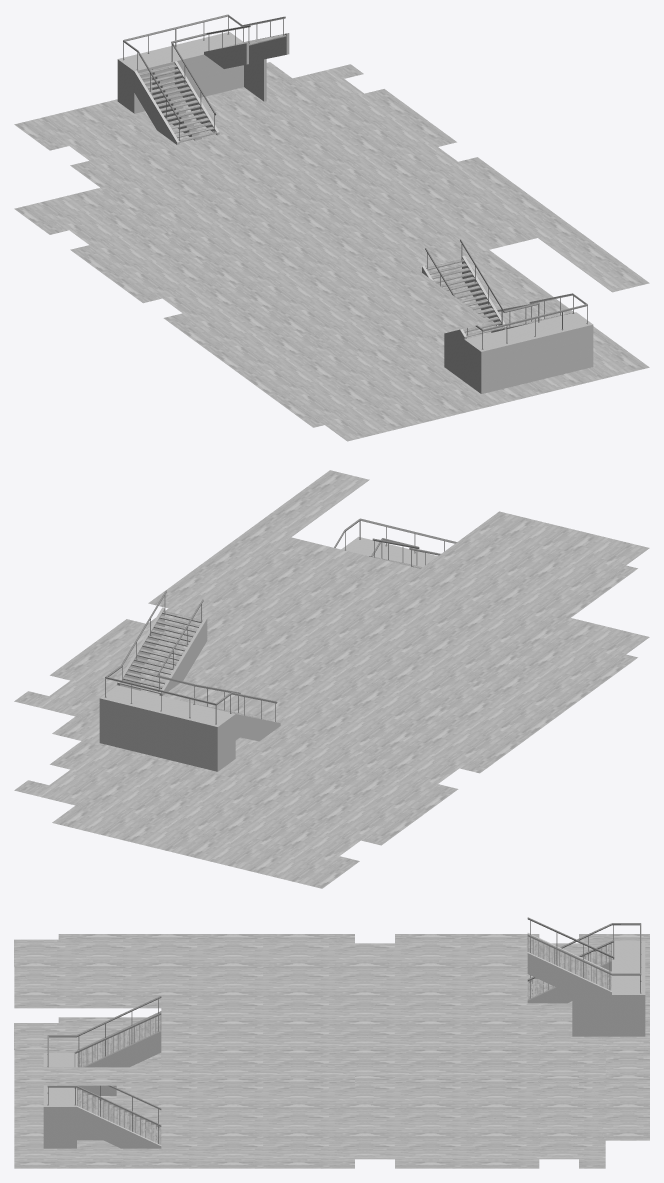
The model's file is VirtualShop2.FBX.
The picture shows the model from 3 angles, top to bottom: view 1: azimuth 30°, elevation 25°; view 2: azimuth 150°, elevation 25°; view 3: azimuth 270°, elevation 25°; orthographic projection. The views are drawn at different scales.
Visible parts, largest first — view 1: Floor, Floor001, Stair_Body, Stair_Body001, Stair, Stair001; view 2: Floor, Floor001, Stair_Body, Stair, Stair_Body001, Stair001; view 3: Floor, Floor001, Stair_Body, Stair_Body001, Stair001, Stair.
Boxes of the visible parts, left/top/right/bottom form: Floor: left=14, top=62, right=649, bottom=356; Floor001: left=14, top=187, right=649, bottom=441; Stair_Body: left=117, top=32, right=289, bottom=144; Stair_Body001: left=422, top=255, right=593, bottom=393; Stair: left=123, top=14, right=286, bottom=142; Stair001: left=425, top=239, right=587, bottom=349; Floor: left=14, top=470, right=649, bottom=799; Floor001: left=14, top=618, right=649, bottom=888; Stair_Body: left=99, top=607, right=280, bottom=771; Stair: left=105, top=590, right=277, bottom=724; Stair_Body001: left=341, top=536, right=437, bottom=568; Stair001: left=334, top=518, right=456, bottom=567; Floor: left=14, top=934, right=649, bottom=1085; Floor001: left=14, top=1017, right=649, bottom=1168; Stair_Body: left=527, top=933, right=645, bottom=1036; Stair_Body001: left=43, top=1011, right=161, bottom=1148; Stair001: left=47, top=996, right=161, bottom=1144; Stair: left=527, top=917, right=641, bottom=999.
Size of the model in its own units: 772 by 438 by 1369.
